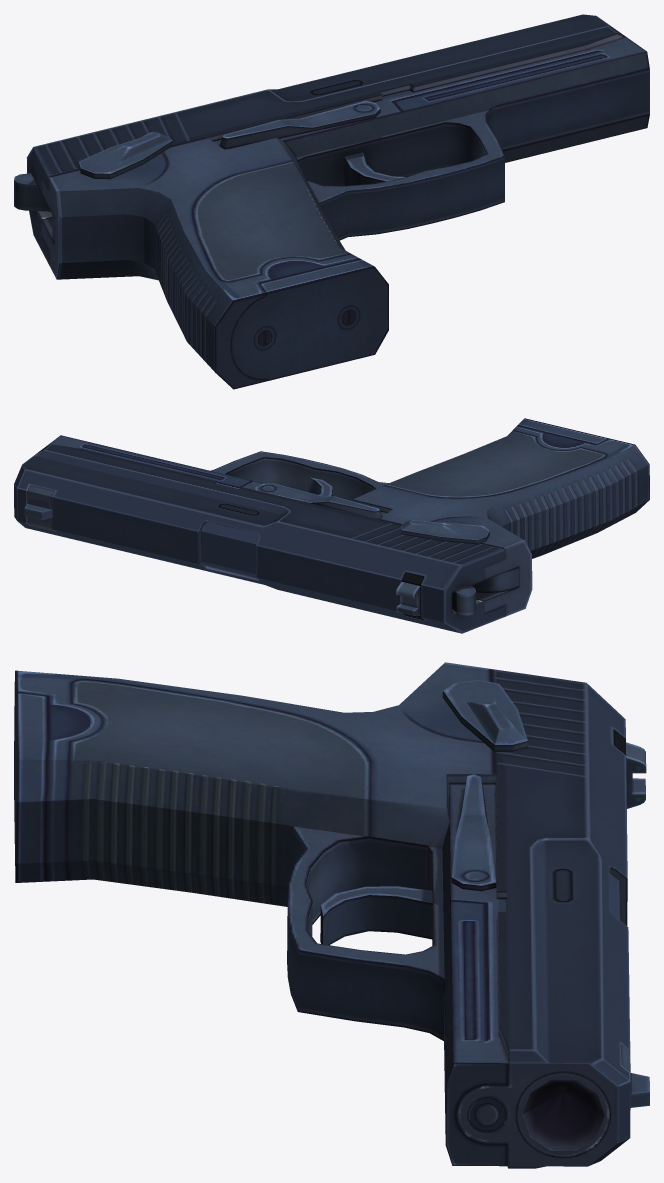
File: gun.FBX
3 renders of one model, top to bottom at view 1: azimuth 30°, elevation 25°; view 2: azimuth 150°, elevation 25°; view 3: azimuth 270°, elevation 25°, orthographic. The views are drawn at different scales.
Visible parts, largest first — view 1: Weapon; view 2: Weapon; view 3: Weapon.
Part boxes in pixels (x1,y1,x2,y2): Weapon: (14, 14, 649, 389); Weapon: (14, 418, 649, 633); Weapon: (14, 662, 649, 1168).
Size of the model in its own units: 22.13 by 3.95 by 15.12.
